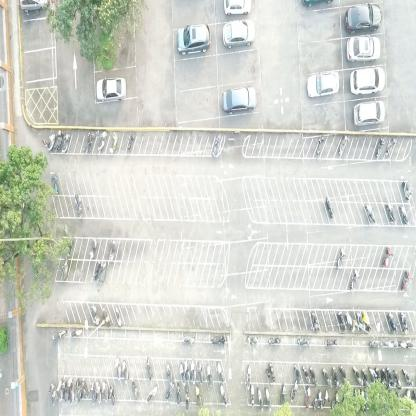car: (345, 2, 382, 36), (176, 23, 211, 56), (221, 84, 257, 116), (350, 65, 386, 96), (222, 17, 255, 50), (306, 70, 340, 100), (346, 35, 381, 63), (352, 101, 386, 128), (96, 77, 126, 102), (222, 0, 252, 15), (20, 0, 50, 15)
